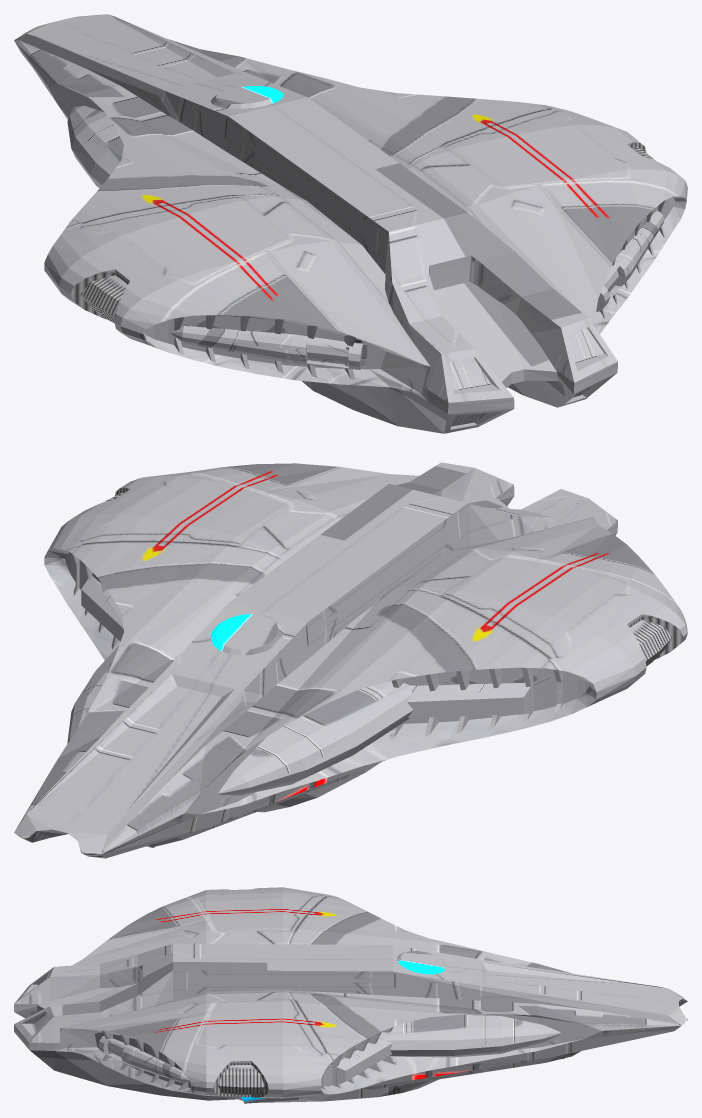
The model's file is Fed_Venture.fbx.
3 views of the same model, one above another, from view 1: azimuth 30°, elevation 25°; view 2: azimuth 150°, elevation 25°; view 3: azimuth 270°, elevation 25° (orthographic). The views are drawn at different scales.
Visible parts, largest first — view 1: Fed_Venture; view 2: Fed_Venture; view 3: Fed_Venture.
Boxes of the visible parts, bbox=[...] form: Fed_Venture: bbox=[14, 14, 687, 433]; Fed_Venture: bbox=[14, 462, 687, 858]; Fed_Venture: bbox=[14, 887, 687, 1103].
Size of the model in its own units: 62.93 by 19.86 by 92.52.
1 material, 1 textured.
